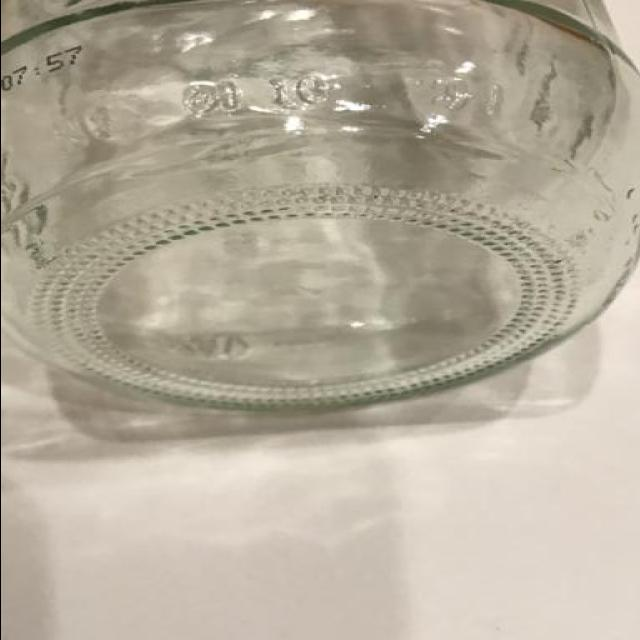litter: (0, 0, 639, 410)
